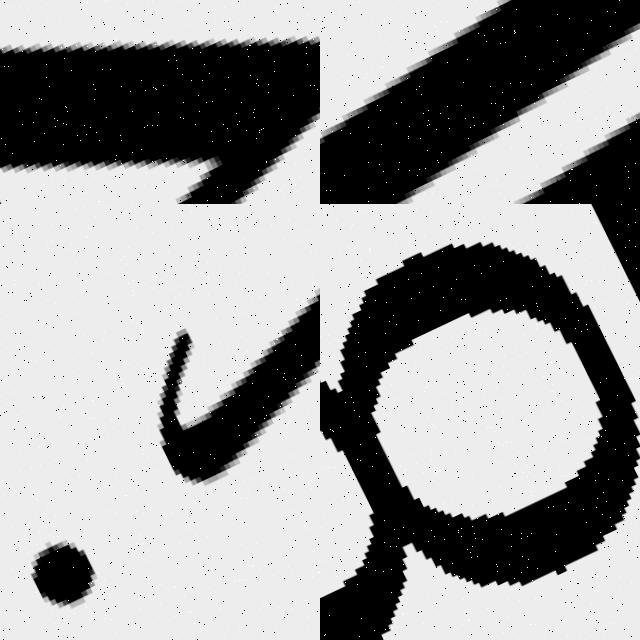8: (320, 204, 640, 640)
I: (0, 210, 320, 618)
M: (320, 0, 640, 204)
Y: (0, 0, 320, 204)
